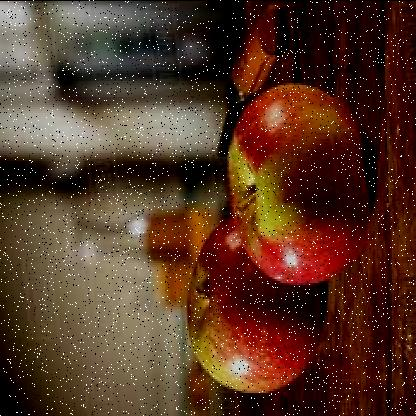apple: (226, 78, 369, 286), (186, 218, 325, 394)
